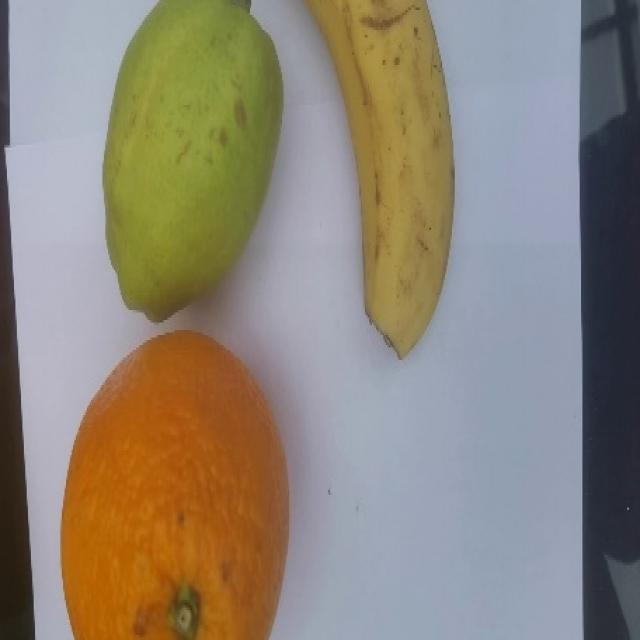Banana: (302, 0, 455, 360)
Orange: (59, 329, 290, 639)
